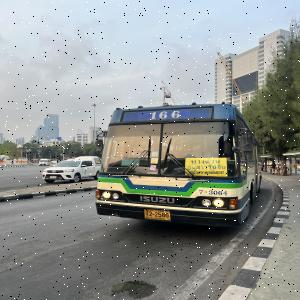BMTA-bus: (95, 102, 261, 228)
Bus Line Number: (146, 108, 184, 124)
Bus Side Number: (198, 188, 230, 198)
Destination Sign: (185, 157, 229, 177)
